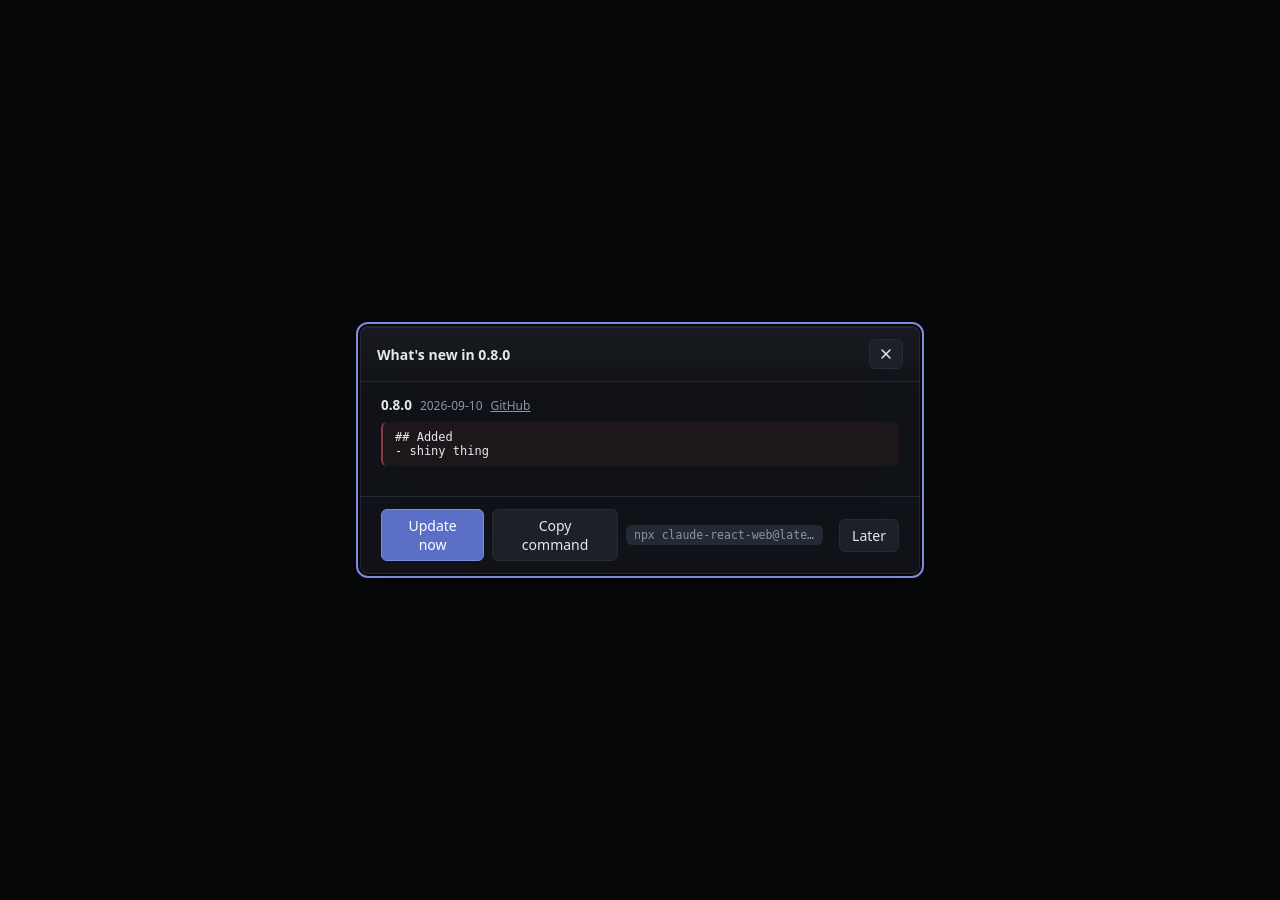
Test case: UpdateDialog › keeps the dialog open when the update throws
The image size is (1280, 900).
Click the button "Update now" at (433, 535), box [381,509,484,561]
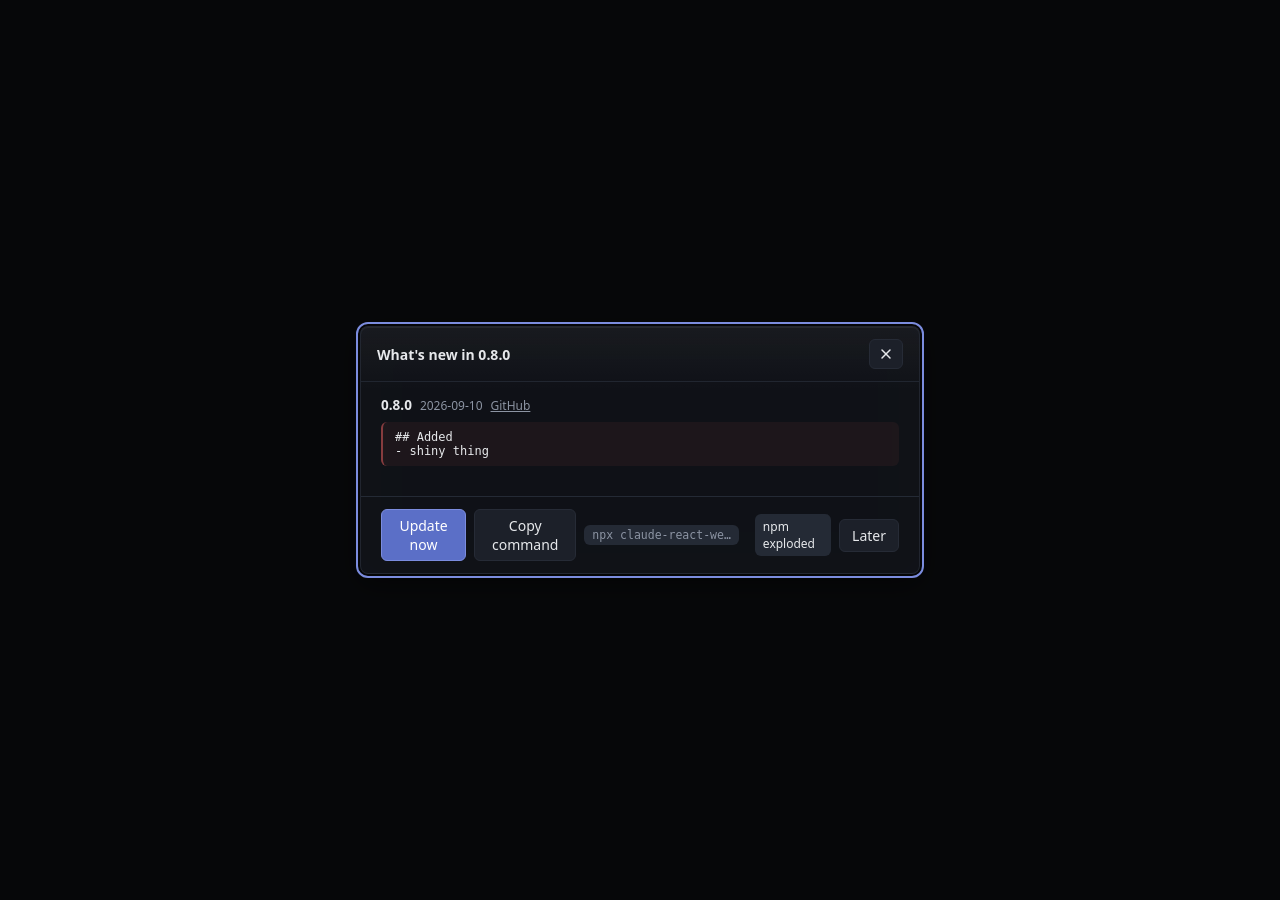
Check: the text "npm exploded" is shown, box [755,514,831,556]
